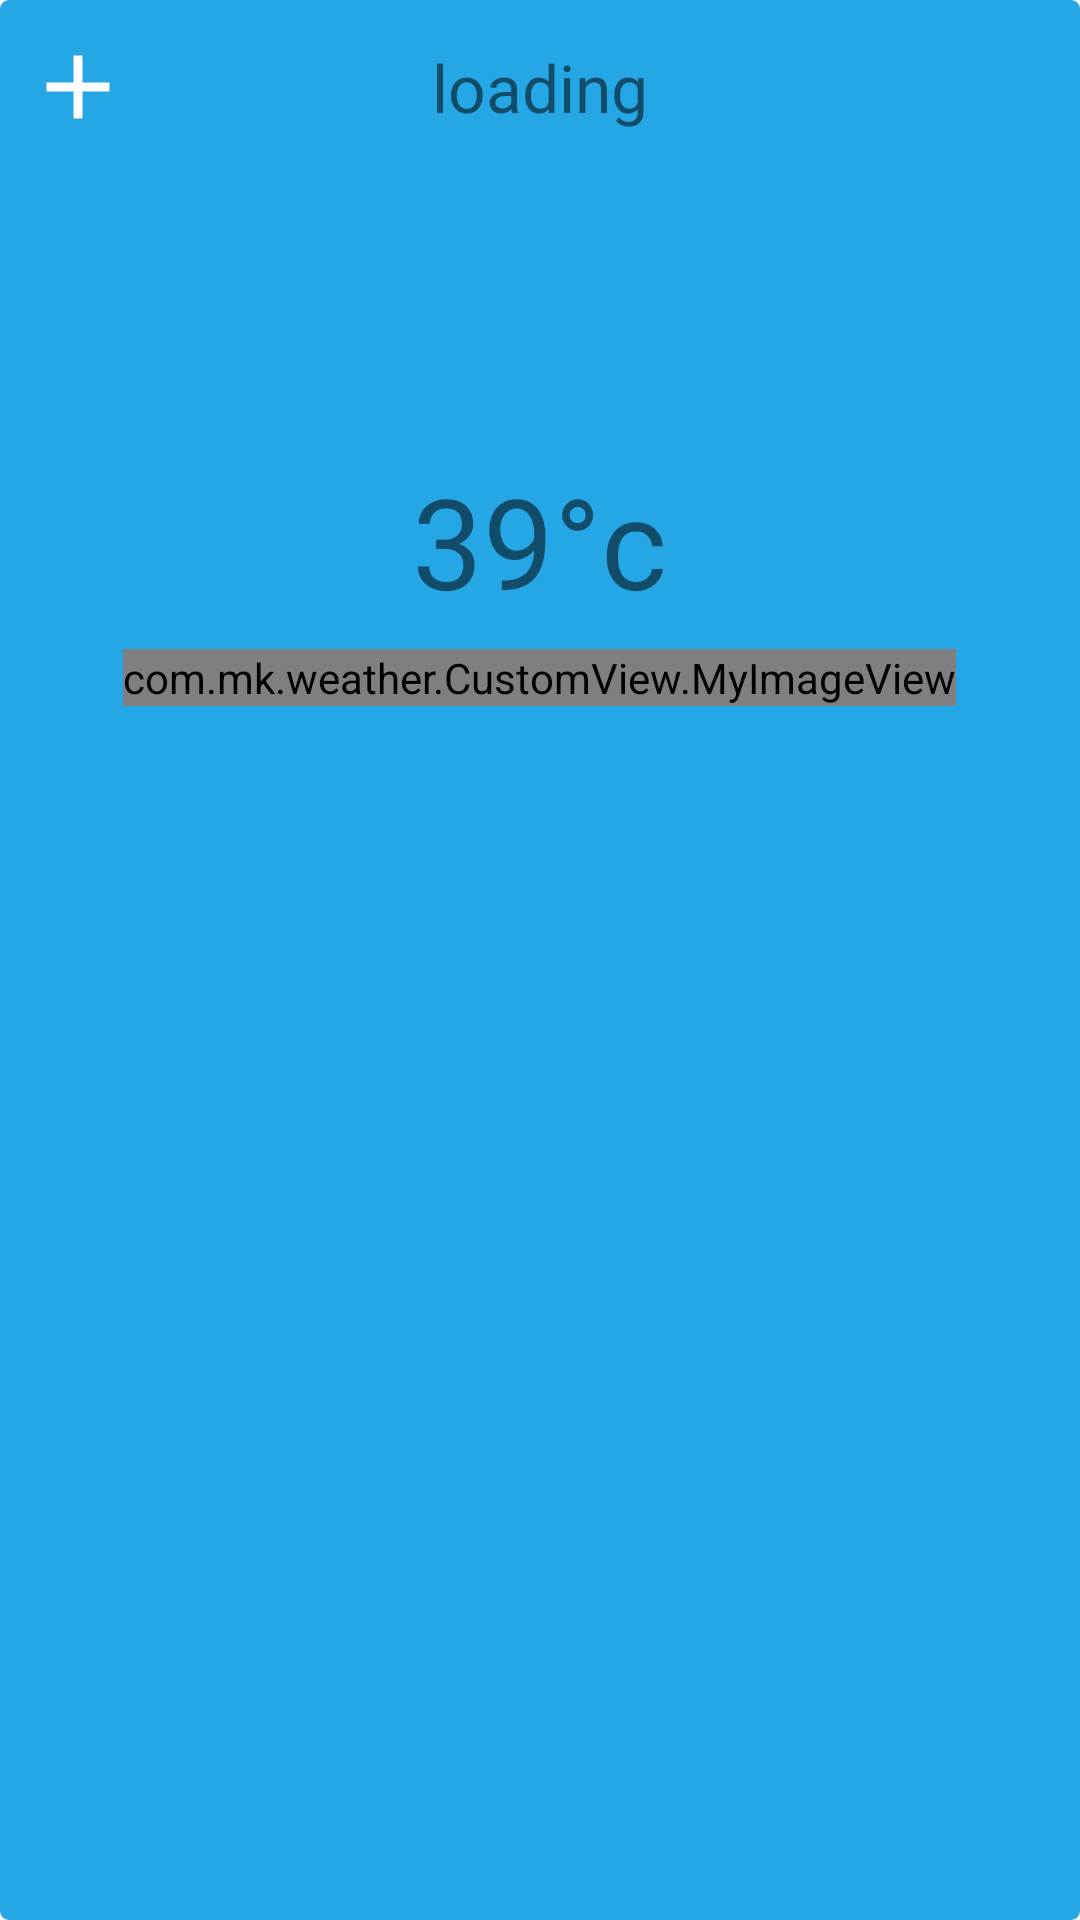

Where to tap for icons on this 1080×1920 app screen, as [x,y]:
plus: [78,87]
